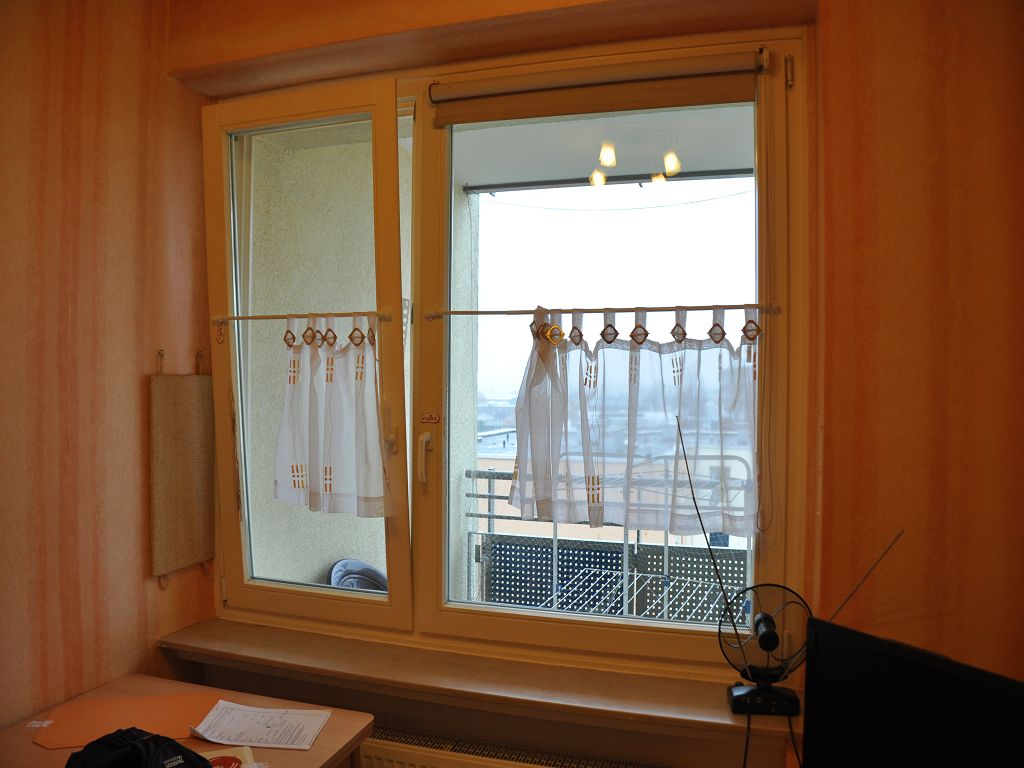windows: (177, 79, 792, 678)
